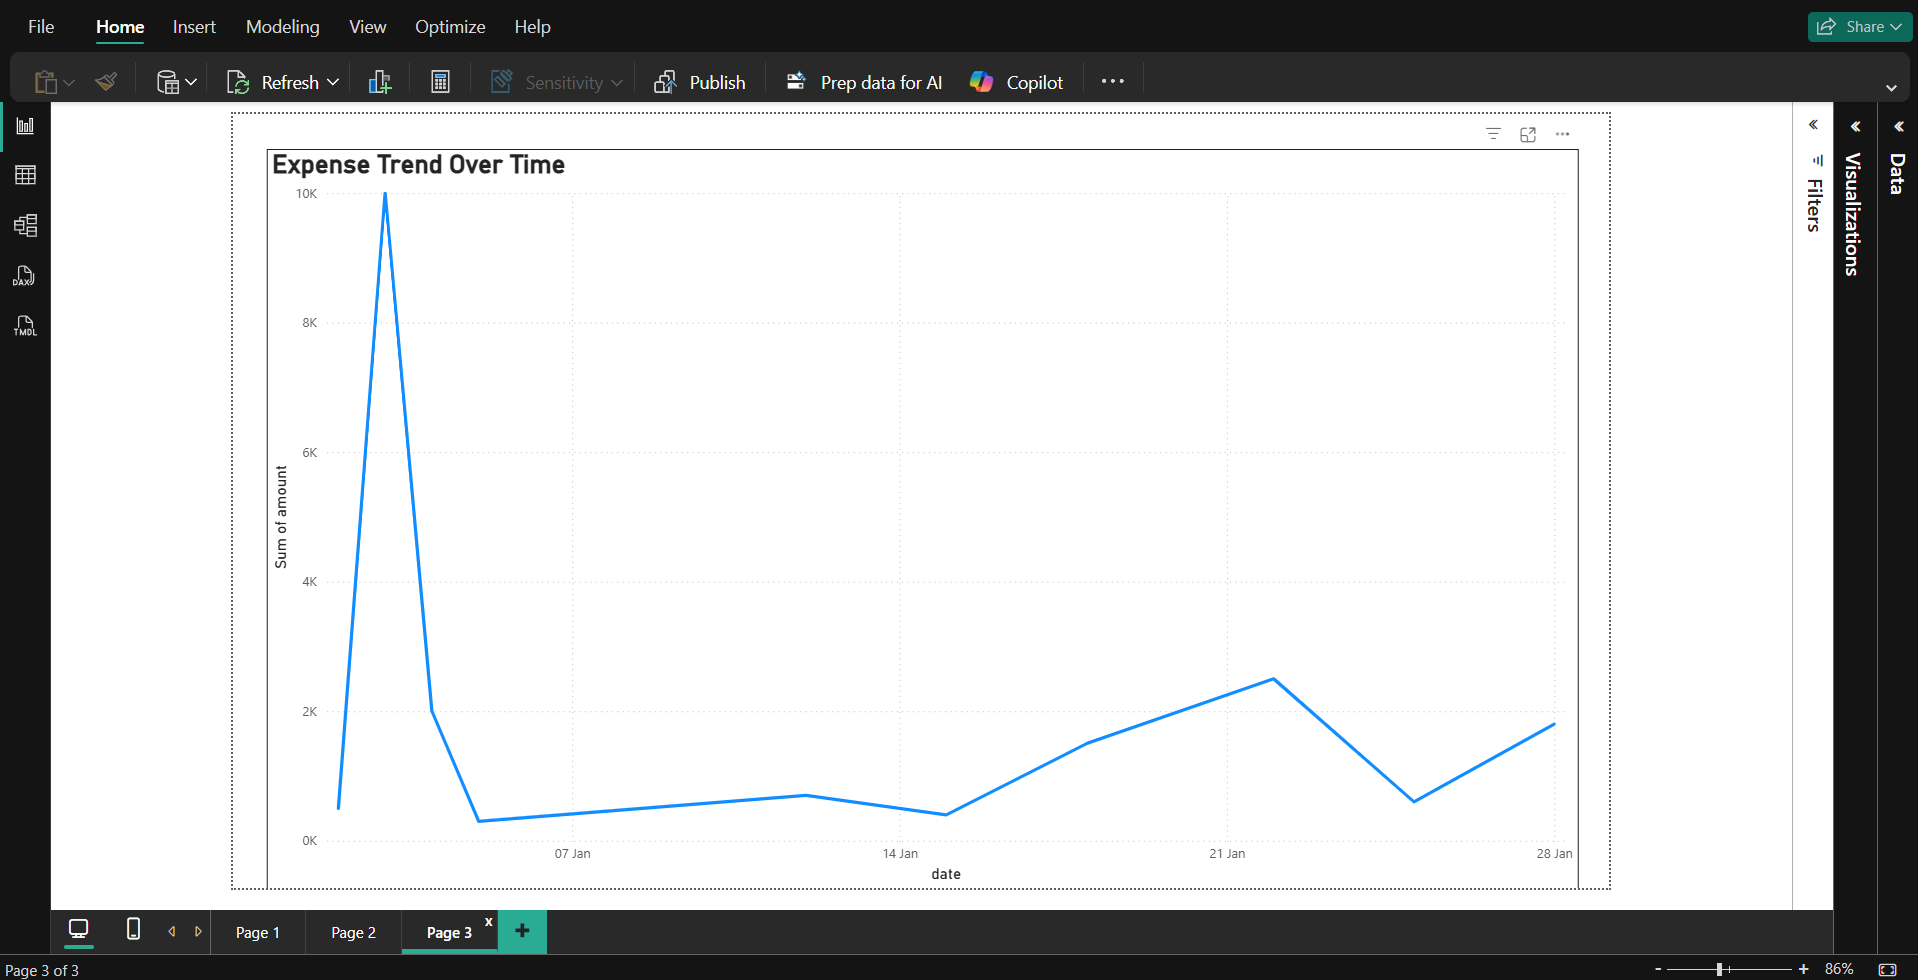

The page's visual inventory and layout, read from the dashboard file:
{"tool":"powerbi","page":{"name":"Page 3","canvas":[1280,720],"ordinal":2},"visuals":[{"type":"lineChart","title":"Expense Trend Over Time","fields":{"Category":["finance.date"],"Y":["Sum(finance.amount)"]},"box":[31.6,32.9,1219.9,687.5],"z":0}]}

Visuals, with their boxes on the page's 1280x720 design canvas (x1, y1, x2, y2). These are canvas units, not pixel positions in the 1918x980 screenshot, which may show the page scaled, cropped or inside an application window:
"Expense Trend Over Time" lineChart: bbox(32, 33, 1252, 720)
